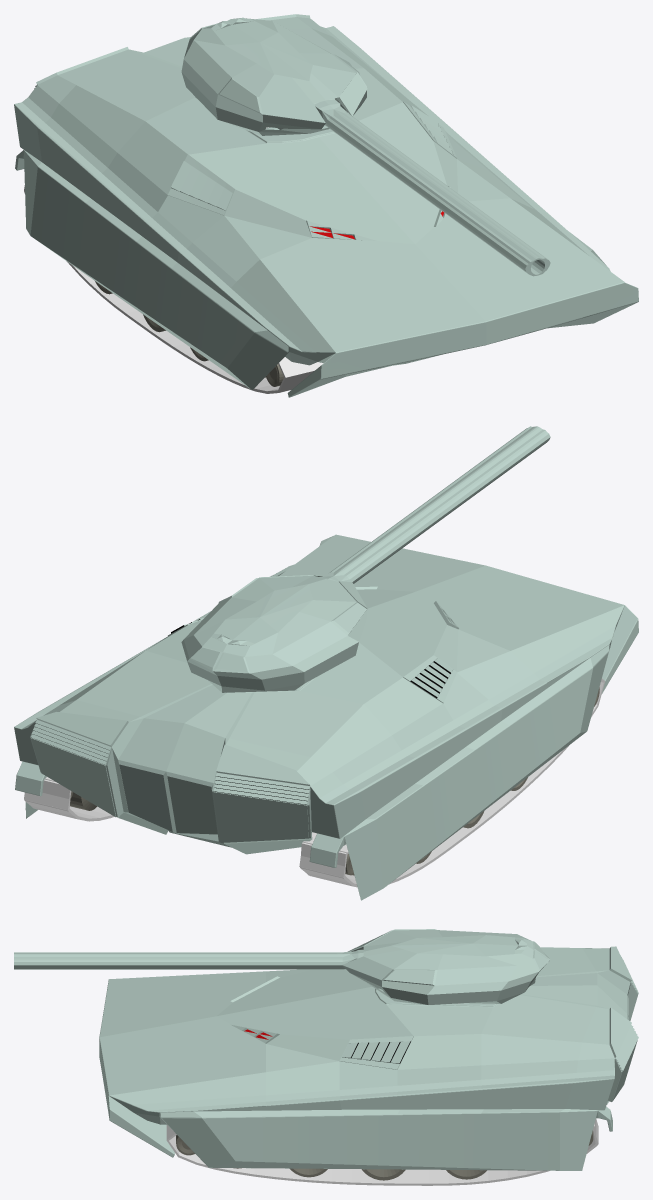
File: TankFixedAim.fbx
3 views of the same model, one above another, from view 1: azimuth 30°, elevation 25°; view 2: azimuth 150°, elevation 25°; view 3: azimuth 270°, elevation 25° (orthographic). The views are drawn at different scales.
Visible parts, largest first — view 1: TankMain, Tower, TankAim, TankMainFrontWind, TrackBaked, Detector; view 2: TankMain, Tower, TankAim, TrackBaked, TankMainBackWind, TankMainFrontWind; view 3: TankMain, Tower, TankAim, TrackBaked, TankMainFrontWind, TankMainBackWind, Detector, TankWheels.004.
Part boxes in pixels (x1,y1,x2,y2): TankMain: [14, 14, 638, 397]; Tower: [181, 17, 367, 135]; TankAim: [314, 98, 550, 276]; TankMainFrontWind: [168, 102, 457, 215]; TrackBaked: [24, 185, 323, 393]; Detector: [306, 186, 450, 240]; TankMain: [14, 534, 638, 900]; Tower: [181, 575, 367, 692]; TankAim: [319, 426, 550, 583]; TrackBaked: [24, 678, 605, 887]; TankMainBackWind: [31, 719, 310, 804]; TankMainFrontWind: [168, 618, 457, 703]; TankMain: [99, 946, 638, 1170]; Tower: [342, 929, 550, 1004]; TankAim: [14, 950, 363, 969]; TrackBaked: [166, 1118, 598, 1185]; TankMainFrontWind: [339, 1036, 413, 1069]; TankMainBackWind: [615, 955, 638, 1071]; Detector: [230, 976, 279, 1043]; TankWheels.004: [361, 1169, 405, 1180].
Size of the model in its own units: 531 by 310 by 987.
